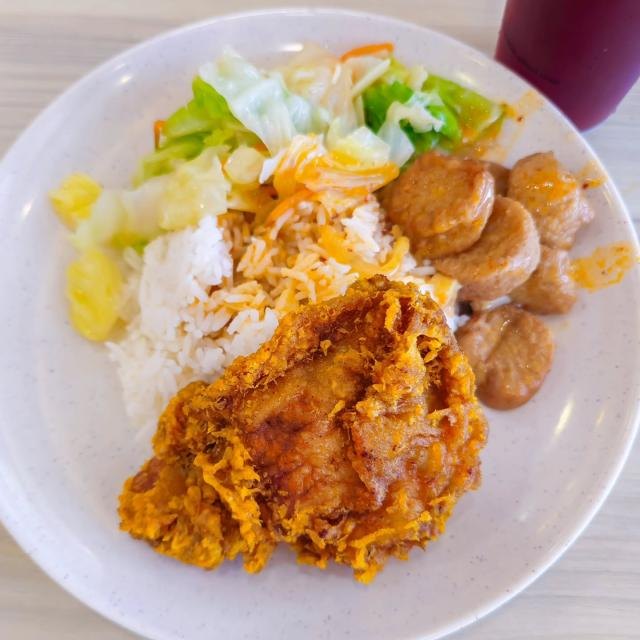Chicken: (119, 274, 488, 582)
Green veg: (50, 44, 514, 341)
Rice: (106, 196, 456, 426)
Tofu: (381, 152, 590, 410)
